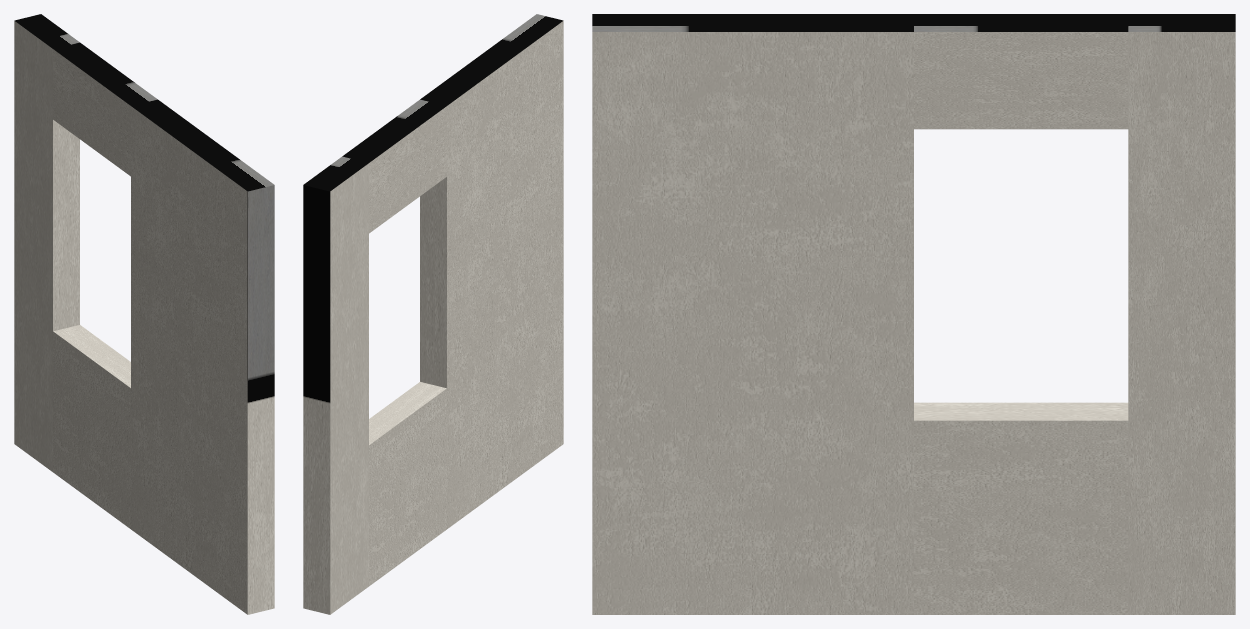
The model's file is wall_window_inside.glb.
The picture shows the model from 3 angles, left to right: view 1: azimuth 30°, elevation 25°; view 2: azimuth 150°, elevation 25°; view 3: azimuth 270°, elevation 25°; orthographic projection. The views are drawn at different scales.
Visible parts, largest first — view 1: Cube, Cube.002, Cube.003, Cube.001; view 2: Cube, Cube.002, Cube.003, Cube.001; view 3: Cube, Cube.002, Cube.003, Cube.001.
Part boxes in pixels (bbox=[...]): Cube: bbox=[131, 99, 274, 614]; Cube.002: bbox=[14, 14, 79, 471]; Cube.003: bbox=[53, 325, 130, 528]; Cube.001: bbox=[53, 42, 157, 176]; Cube: bbox=[420, 14, 563, 528]; Cube.002: bbox=[303, 156, 368, 614]; Cube.003: bbox=[369, 382, 446, 586]; Cube.001: bbox=[342, 99, 446, 233]; Cube: bbox=[592, 14, 913, 614]; Cube.002: bbox=[1128, 14, 1235, 614]; Cube.003: bbox=[914, 402, 1128, 614]; Cube.001: bbox=[914, 14, 1128, 129].
Size of the model in its own units: 0.2 by 3 by 3.
Materials: 1 (1 with a texture image).
